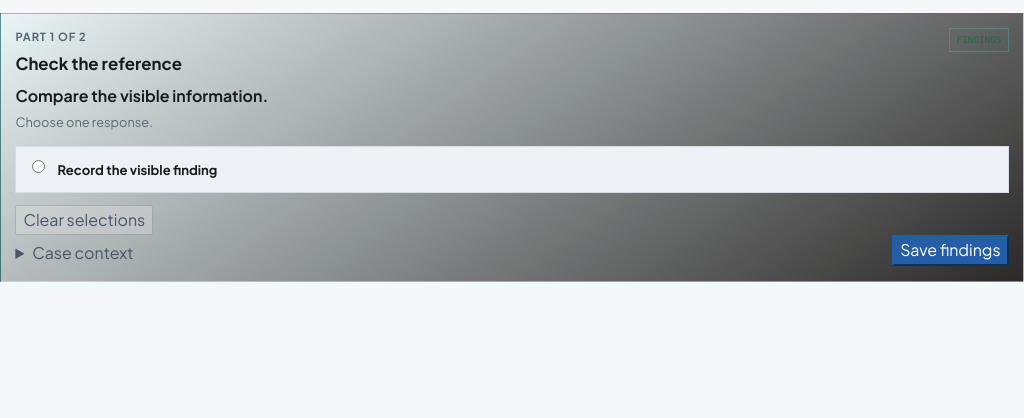
Test: uses structured controls for a task without a specialized tool and retries unchanged findings
Click the radio button at coordinates (38, 167), box [32,160,45,173]
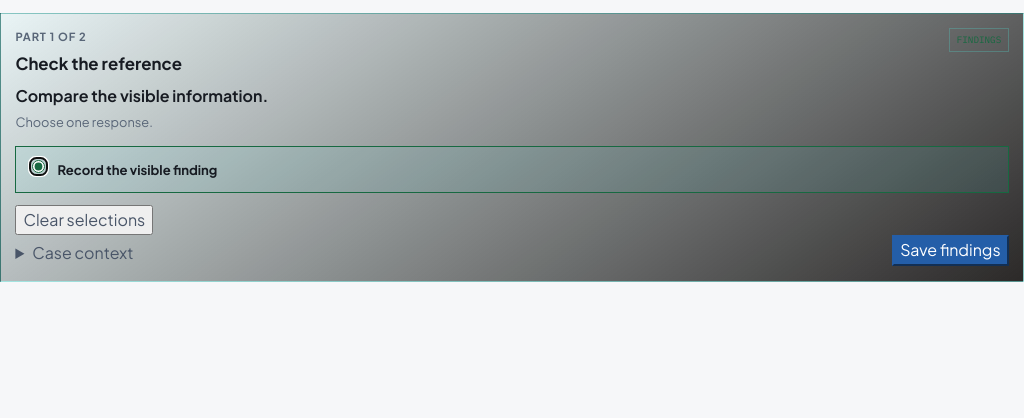
Click the button "Save findings" at coordinates (950, 251), box [892,235,1009,266]
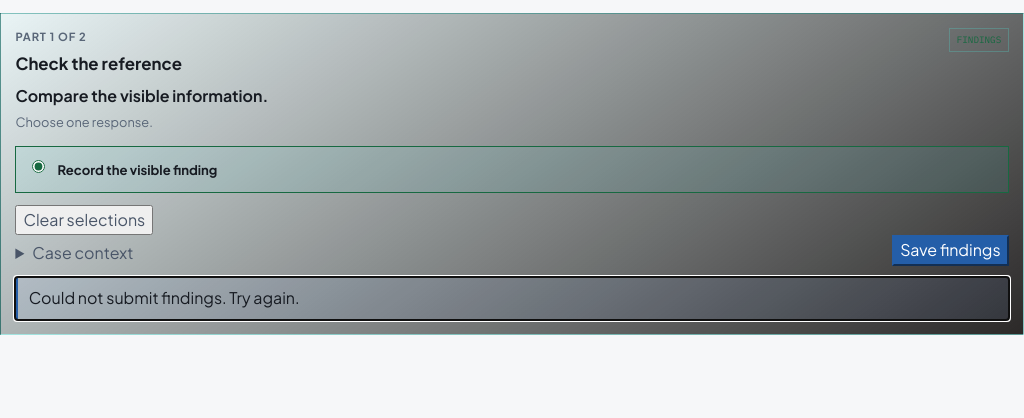
Expected: the radio button is checked, [32,160,45,173]
Click the button "Save findings" at coordinates (950, 251), box [892,235,1009,266]
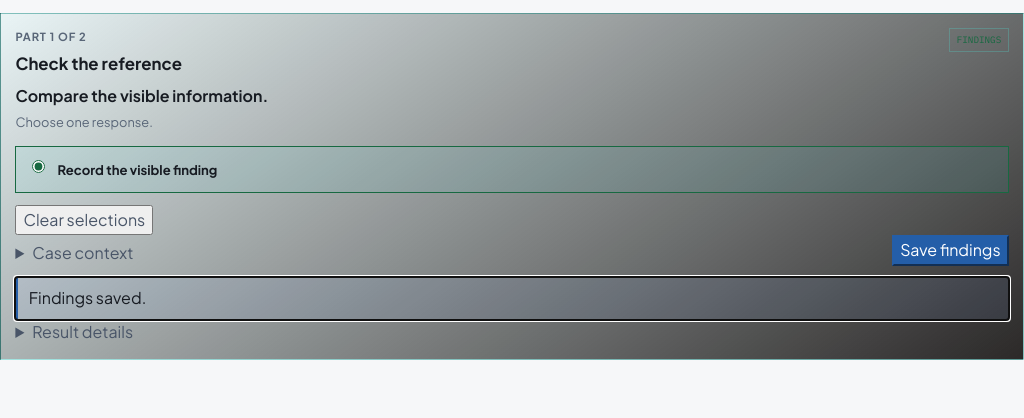
Click the heading "Result details" at coordinates (83, 331), box [32,321,133,342]
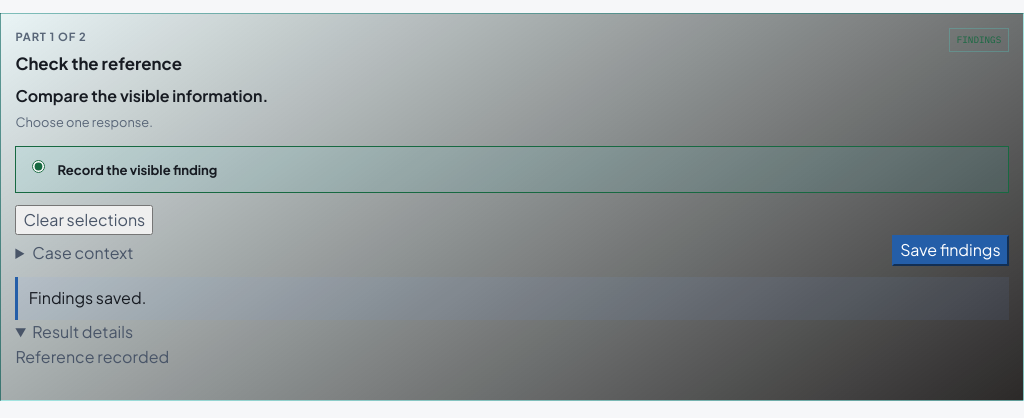
Expected: the text "Reference recorded" is shown, [15,346,169,366]
